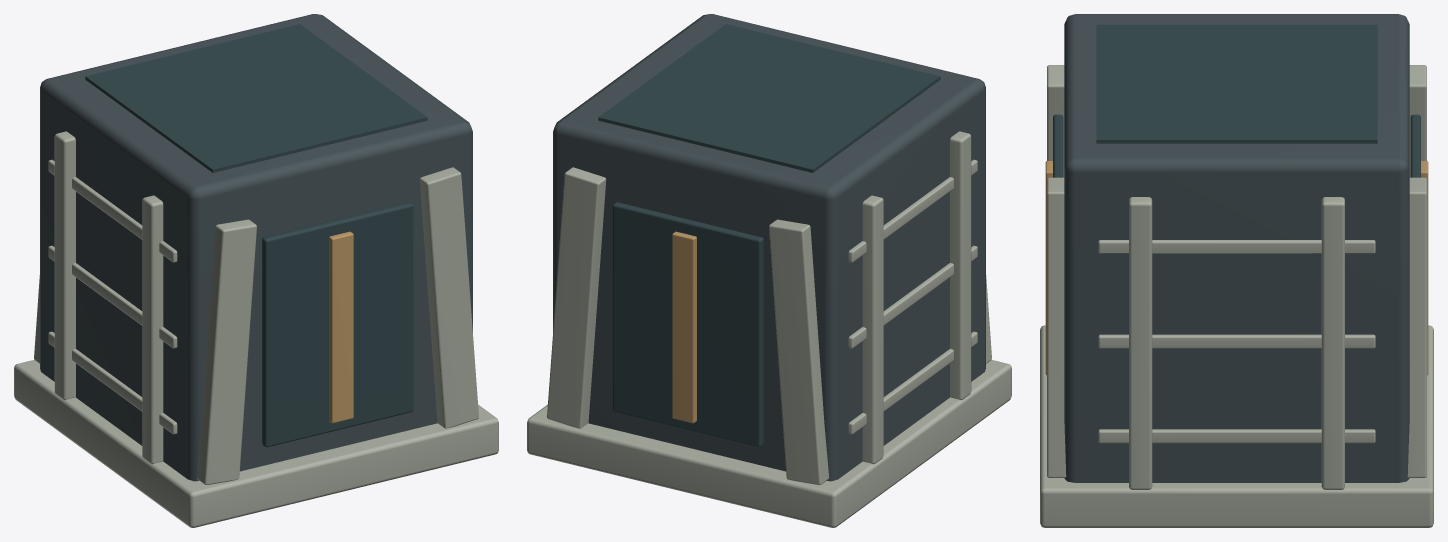
Rendered from gate-base-1.glb.
3 renders of one model, left to right at view 1: azimuth 30°, elevation 25°; view 2: azimuth 150°, elevation 25°; view 3: azimuth 270°, elevation 25°, orthographic. The views are drawn at different scales.
Visible parts, largest first — view 1: gate_0, gate_1, gate_2, gate_3; view 2: gate_0, gate_1, gate_2, gate_3; view 3: gate_0, gate_1, gate_2, gate_3.
Boxes of the visible parts, x1=… form: gate_0: x1=40, y1=14, x2=472, y2=481; gate_1: x1=14, y1=131, x2=498, y2=527; gate_2: x1=85, y1=24, x2=427, y2=447; gate_3: x1=329, y1=231, x2=353, y2=423; gate_0: x1=553, y1=14, x2=985, y2=481; gate_1: x1=527, y1=131, x2=1011, y2=527; gate_2: x1=598, y1=24, x2=940, y2=447; gate_3: x1=672, y1=231, x2=696, y2=423; gate_0: x1=1064, y1=14, x2=1409, y2=482; gate_1: x1=1040, y1=65, x2=1433, y2=527; gate_2: x1=1053, y1=24, x2=1420, y2=177; gate_3: x1=1045, y1=161, x2=1428, y2=375.
Bounding box in the file's own units: 0.98 × 1 × 0.98.
